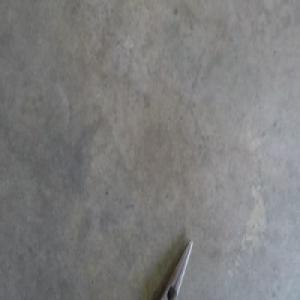Pliers: (157, 237, 192, 299)
